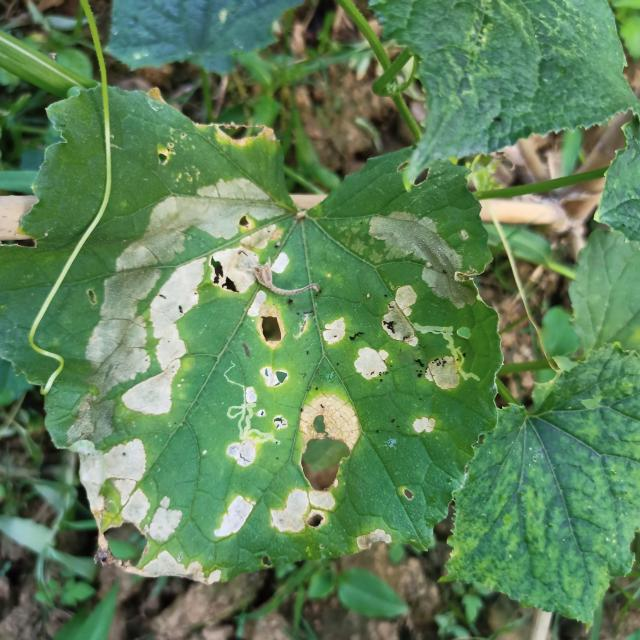disease_cucumber: (63, 401, 397, 585), (86, 174, 296, 417), (318, 207, 482, 446)
